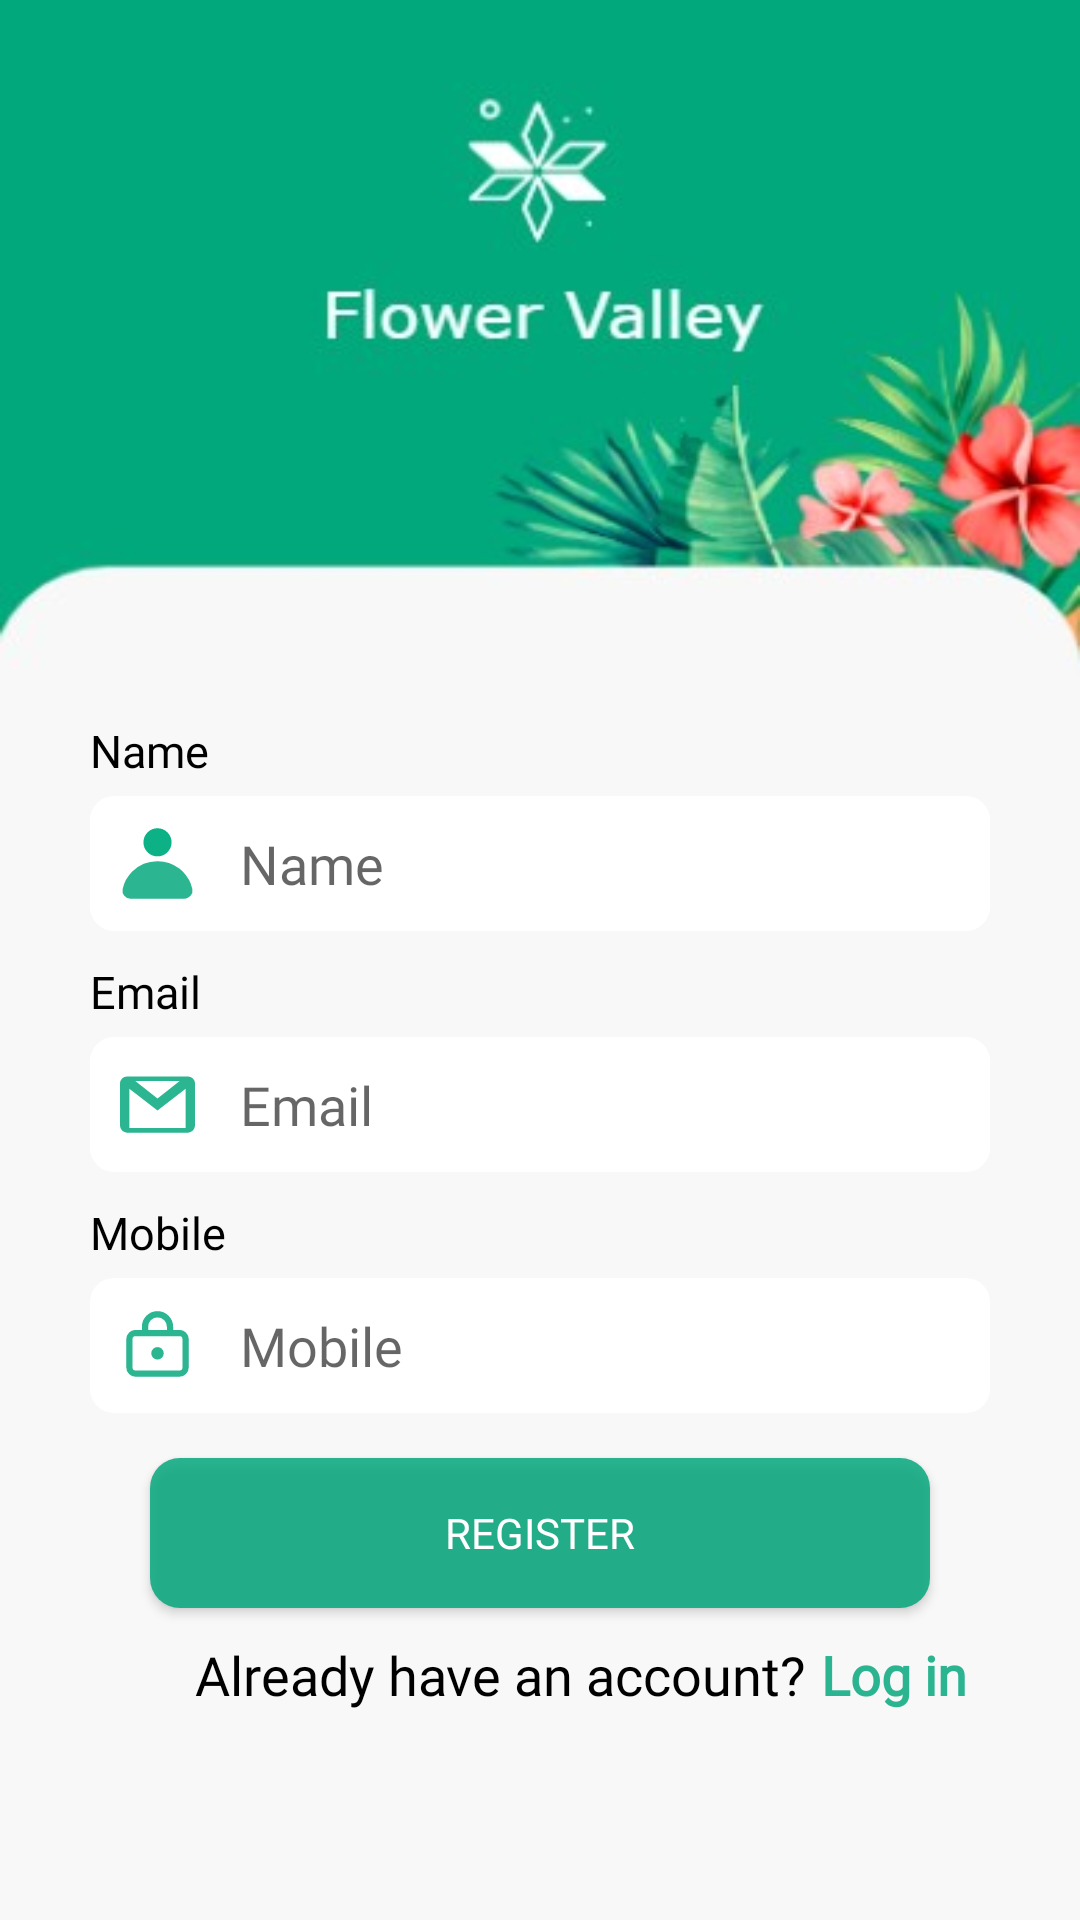

Screen size 1080×1920. Icon name, then its box in pixels as (x1, y1, x2, y2):
lock: (126, 1311, 189, 1377)
profile: (122, 828, 193, 899)
